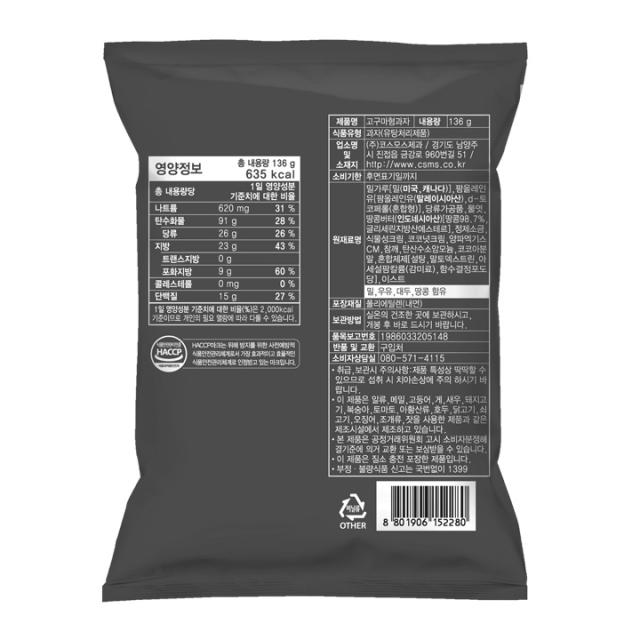Nutrition Label: (143, 146, 309, 333)
